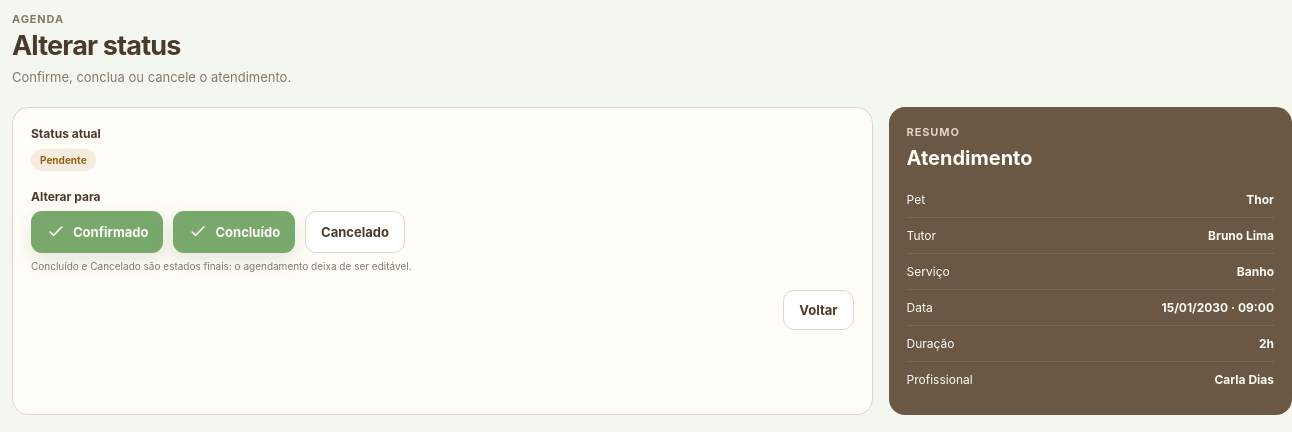
Test case: UI | AlterarStatusForm › deve alterar o status e atualizar a tela após sucesso
Click the button "Confirmado" at (97, 232), box [31,211,164,253]
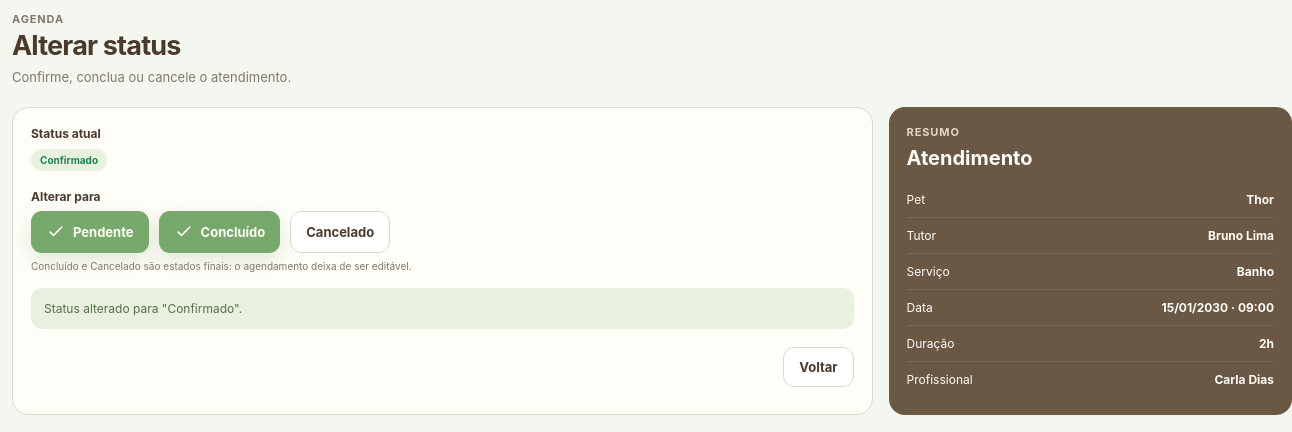
Check: the message reads "Status alterado para \"Confirmado\".", box [44,301,242,316]
Check: the text with test id "current-status" reads "Confirmado", box [40,154,98,166]
Check: the button "Pendente" is shown, box [31,211,149,253]
